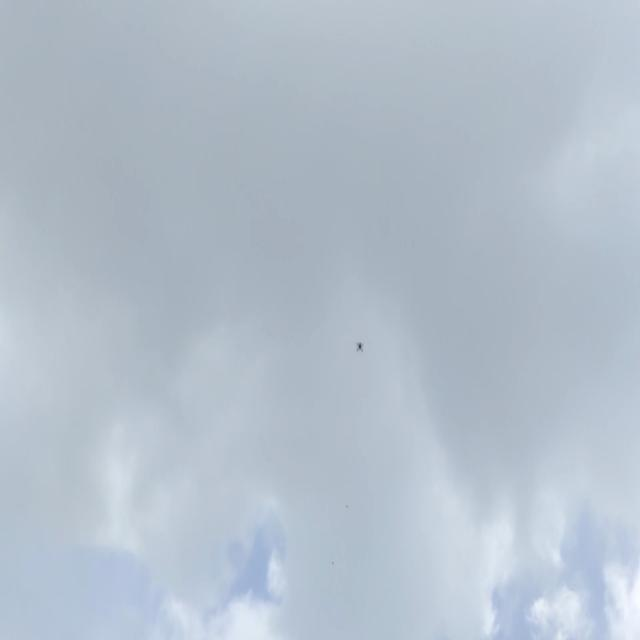drone: (355, 337, 366, 355)
